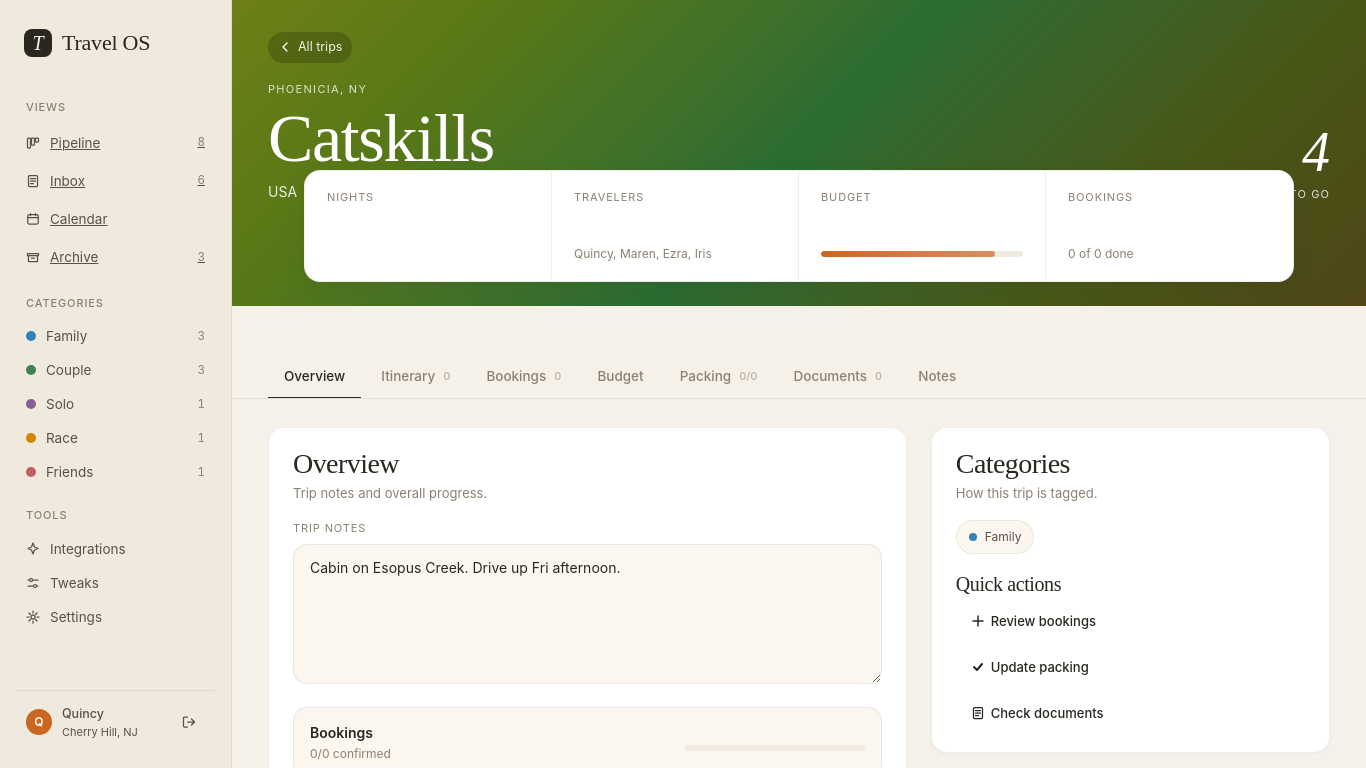
Test: route components › budget tab shows empty split state when no splits configured
expect the heading "Catskills" is shown: met, box [268, 107, 494, 171]
Click the tab "Budget": (620, 378) [581, 358, 660, 399]
(page scrolled)
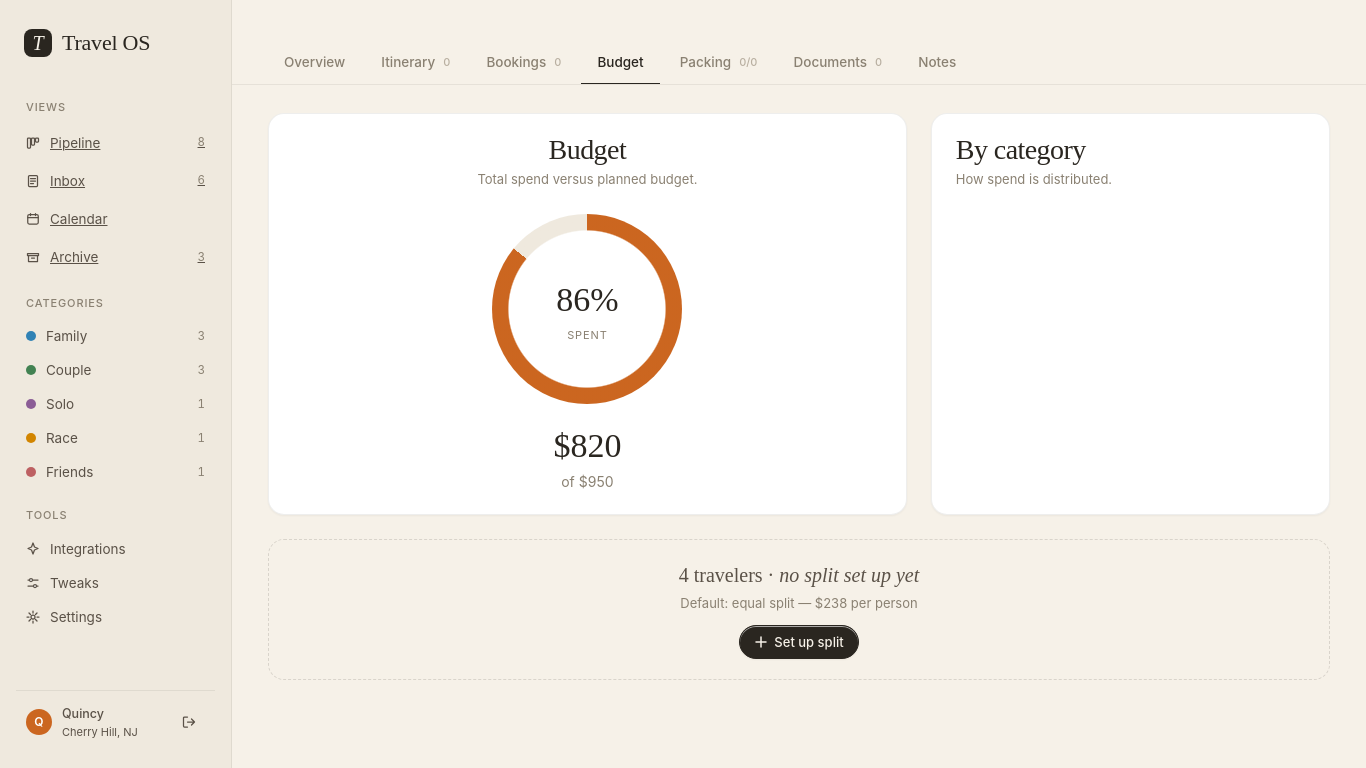
expect the text "no split set up yet" is shown: met, box [779, 564, 919, 586]
expect the button "Set up split" is shown: met, box [739, 625, 859, 659]
